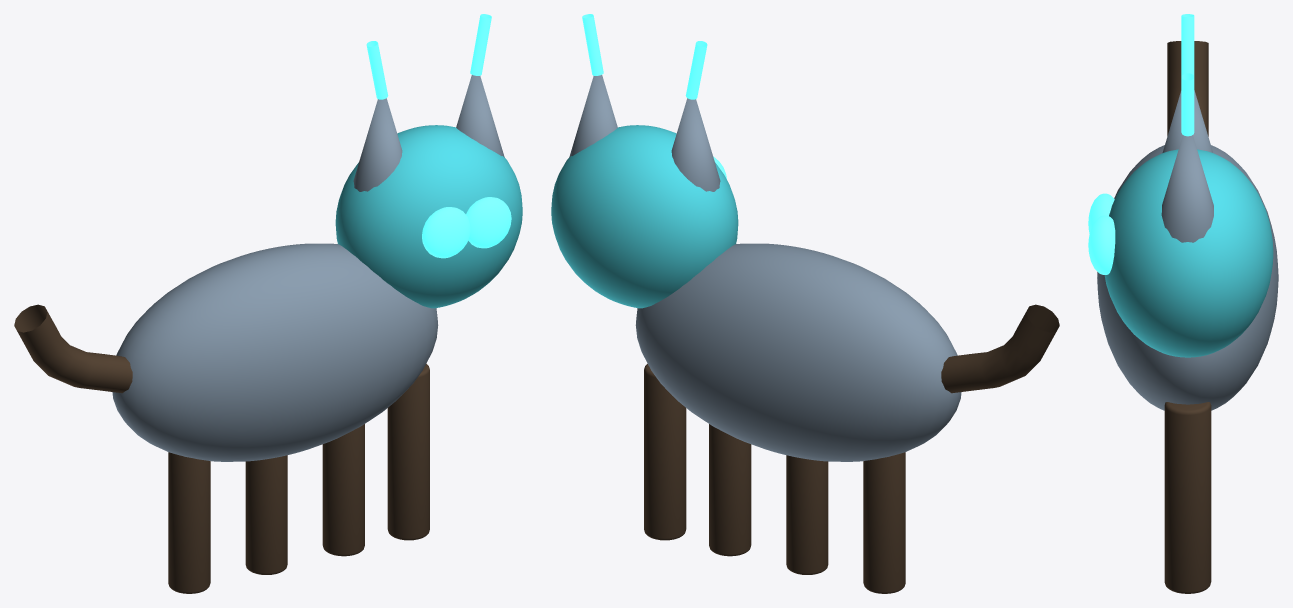
File: quadruped_v6.glb
The picture shows the model from 3 angles, left to right: view 1: azimuth 30°, elevation 25°; view 2: azimuth 150°, elevation 25°; view 3: azimuth 270°, elevation 25°; orthographic projection. The views are drawn at different scales.
Visible parts, largest first — view 1: LYNX_BODY_PRIMARY, LYNX_HEAD_ACCENT, LYNX_LEG_SECONDARY.003, LYNX_LEG_SECONDARY, LYNX_LEG_SECONDARY.002, LYNX_TAIL_SECONDARY, LYNX_LEG_SECONDARY.001, LYNX_EAR_PRIMARY, EYE_EMISSIVE, LYNX_EAR_PRIMARY.001, EYE_EMISSIVE.001, LYNX_EAR_TUFT_EMISSIVE.001 (+1 smaller); view 2: LYNX_BODY_PRIMARY, LYNX_HEAD_ACCENT, LYNX_LEG_SECONDARY.003, LYNX_LEG_SECONDARY, LYNX_LEG_SECONDARY.002, LYNX_TAIL_SECONDARY, LYNX_LEG_SECONDARY.001, LYNX_EAR_PRIMARY, LYNX_EAR_PRIMARY.001, LYNX_EAR_TUFT_EMISSIVE.001, LYNX_EAR_TUFT_EMISSIVE; view 3: LYNX_HEAD_ACCENT, LYNX_BODY_PRIMARY, LYNX_LEG_SECONDARY.003, LYNX_EAR_PRIMARY.001, LYNX_TAIL_SECONDARY, EYE_EMISSIVE.001, LYNX_EAR_PRIMARY, LYNX_EAR_TUFT_EMISSIVE.001, LYNX_EAR_TUFT_EMISSIVE, EYE_EMISSIVE.
Boxes of the visible parts, left/top/right/bottom form: LYNX_BODY_PRIMARY: left=112, top=243, right=438, bottom=461; LYNX_HEAD_ACCENT: left=335, top=125, right=522, bottom=308; LYNX_LEG_SECONDARY.003: left=387, top=364, right=429, bottom=540; LYNX_LEG_SECONDARY: left=168, top=452, right=210, bottom=593; LYNX_LEG_SECONDARY.002: left=322, top=424, right=364, bottom=556; LYNX_TAIL_SECONDARY: left=14, top=304, right=132, bottom=393; LYNX_LEG_SECONDARY.001: left=245, top=455, right=287, bottom=574; LYNX_EAR_PRIMARY: left=353, top=98, right=402, bottom=191; EYE_EMISSIVE: left=422, top=207, right=470, bottom=258; LYNX_EAR_PRIMARY.001: left=456, top=75, right=504, bottom=157; EYE_EMISSIVE.001: left=466, top=197, right=511, bottom=248; LYNX_EAR_TUFT_EMISSIVE.001: left=470, top=14, right=491, bottom=75; LYNX_BODY_PRIMARY: left=635, top=243, right=961, bottom=461; LYNX_HEAD_ACCENT: left=551, top=125, right=738, bottom=308; LYNX_LEG_SECONDARY.003: left=644, top=364, right=686, bottom=540; LYNX_LEG_SECONDARY: left=863, top=452, right=905, bottom=593; LYNX_LEG_SECONDARY.002: left=709, top=424, right=751, bottom=556; LYNX_TAIL_SECONDARY: left=941, top=304, right=1059, bottom=393; LYNX_LEG_SECONDARY.001: left=786, top=455, right=828, bottom=574; LYNX_EAR_PRIMARY: left=671, top=98, right=720, bottom=191; LYNX_EAR_PRIMARY.001: left=569, top=75, right=617, bottom=157; LYNX_EAR_TUFT_EMISSIVE.001: left=582, top=14, right=603, bottom=75; LYNX_EAR_TUFT_EMISSIVE: left=685, top=41, right=707, bottom=99; LYNX_HEAD_ACCENT: left=1104, top=149, right=1273, bottom=357; LYNX_BODY_PRIMARY: left=1097, top=145, right=1278, bottom=410; LYNX_LEG_SECONDARY.003: left=1164, top=402, right=1211, bottom=593; LYNX_EAR_PRIMARY.001: left=1161, top=135, right=1213, bottom=242; LYNX_TAIL_SECONDARY: left=1167, top=41, right=1208, bottom=136; EYE_EMISSIVE.001: left=1088, top=215, right=1115, bottom=274; LYNX_EAR_PRIMARY: left=1162, top=90, right=1212, bottom=152; LYNX_EAR_TUFT_EMISSIVE.001: left=1181, top=73, right=1194, bottom=136; LYNX_EAR_TUFT_EMISSIVE: left=1181, top=14, right=1194, bottom=76; EYE_EMISSIVE: left=1088, top=193, right=1114, bottom=233.
Size of the model in its own units: 1.91 by 1.83 by 0.5726.
